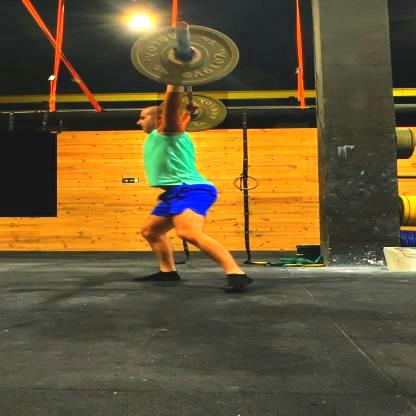barbell: (128, 26, 238, 86), (156, 93, 226, 132)
